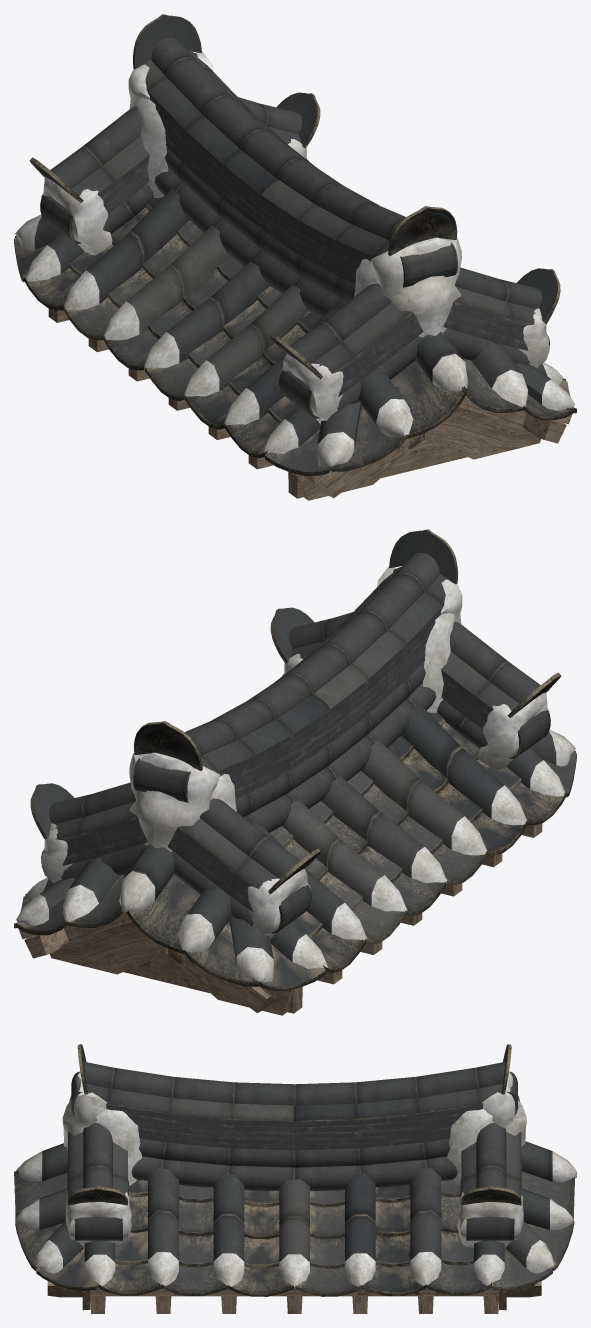
File: SM_Roof01a.fbx
3 views of the same model, one above another, from view 1: azimuth 30°, elevation 25°; view 2: azimuth 150°, elevation 25°; view 3: azimuth 270°, elevation 25° (orthographic). The views are drawn at different scales.
Visible parts, largest first — view 1: SM_Roof01a; view 2: SM_Roof01a; view 3: SM_Roof01a.
Boxes of the visible parts, bbox=[...] form: SM_Roof01a: bbox=[14, 14, 576, 500]; SM_Roof01a: bbox=[14, 529, 576, 1015]; SM_Roof01a: bbox=[14, 1044, 576, 1313].
Bounding box in the file's own units: 131 × 258 × 111.
Materials: 2 (2 with a texture image).
